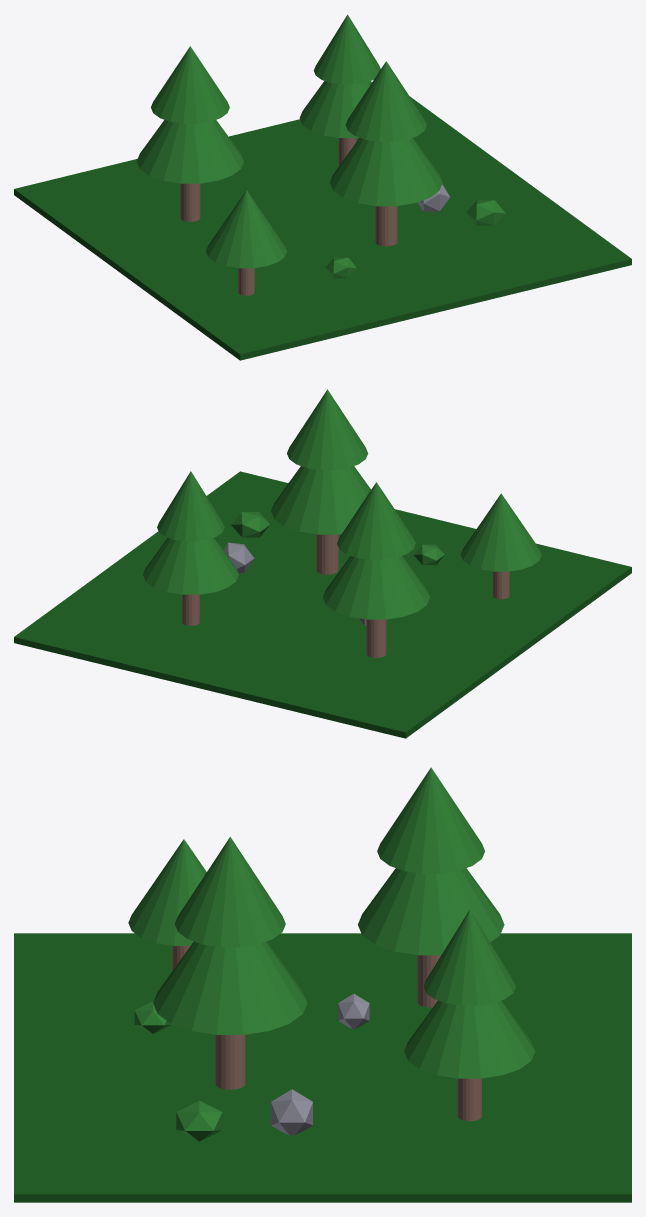
Rendered from forest.glb.
The picture shows the model from 3 angles, top to bottom: view 1: azimuth 30°, elevation 25°; view 2: azimuth 150°, elevation 25°; view 3: azimuth 270°, elevation 25°; orthographic projection. The views are drawn at different scales.
Size of the model in its own units: 8 by 3.64 by 8.
